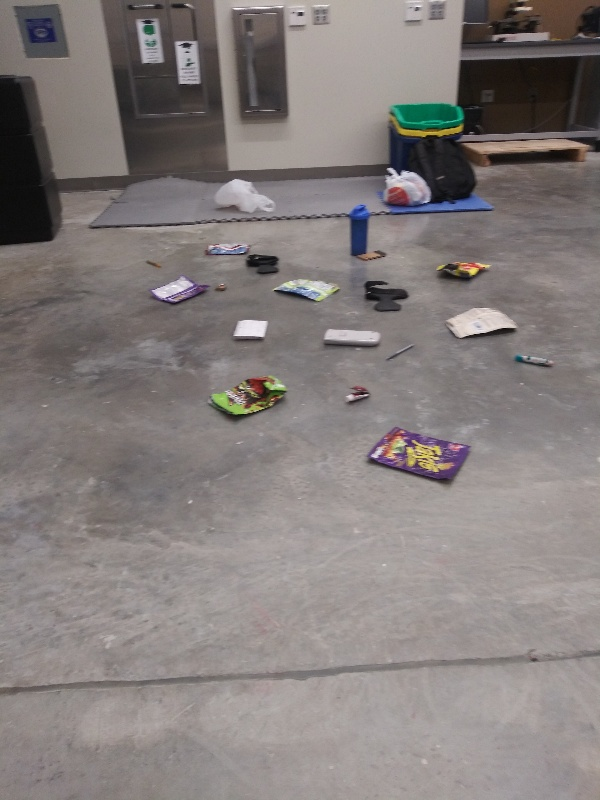bag: (361, 421, 476, 486), (202, 372, 292, 420), (437, 300, 525, 341), (146, 274, 215, 307), (267, 276, 345, 304), (432, 256, 495, 285), (199, 239, 255, 259)
